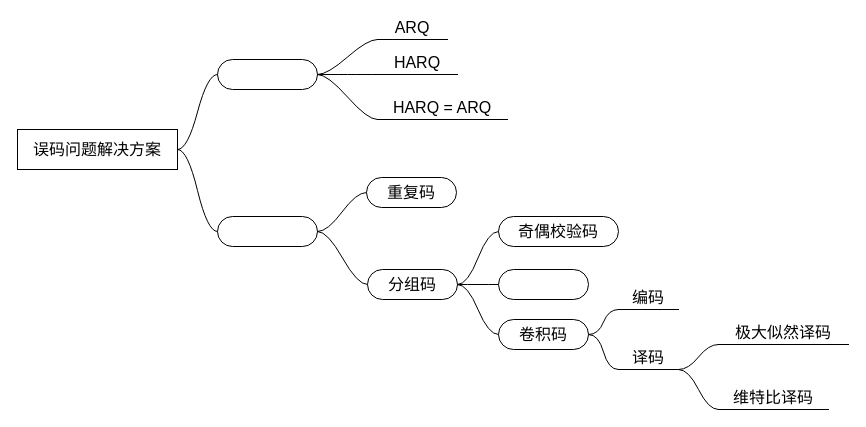
Image size: 866x427. Some labels were removed from this diagram. Here are the shapes that lost their labels. From the top down, the centre of each, then its label:
At (x=267, y=74): "后向纠错".
At (x=267, y=231): "前向纠错".
At (x=543, y=284): "汉明码".
